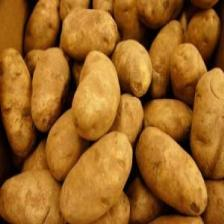potato: (59, 131, 133, 223), (135, 126, 208, 216), (70, 50, 121, 141), (0, 47, 36, 157), (189, 67, 224, 180), (31, 46, 71, 132), (44, 106, 86, 182), (60, 7, 117, 61), (111, 38, 153, 98)
